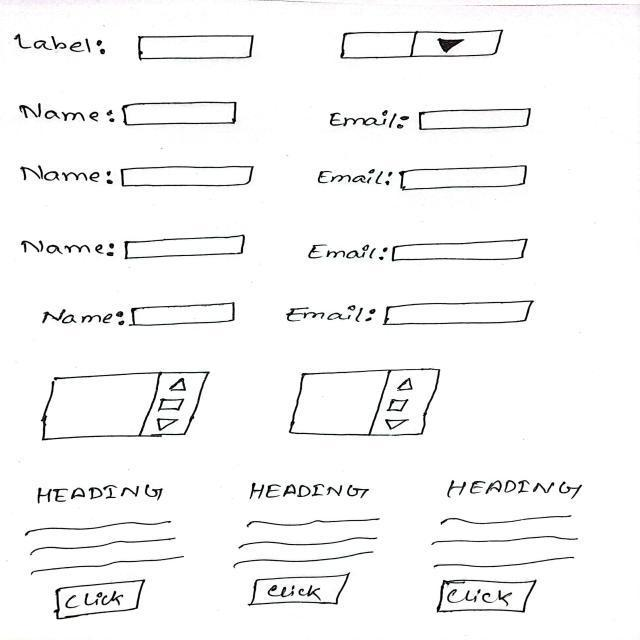textarea: (36, 364, 215, 449), (276, 362, 460, 444)
textbox: (128, 30, 262, 66), (120, 161, 263, 191)
